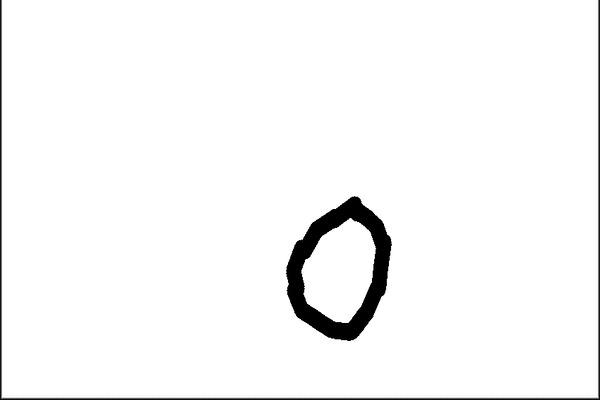O: (271, 191, 399, 352)
